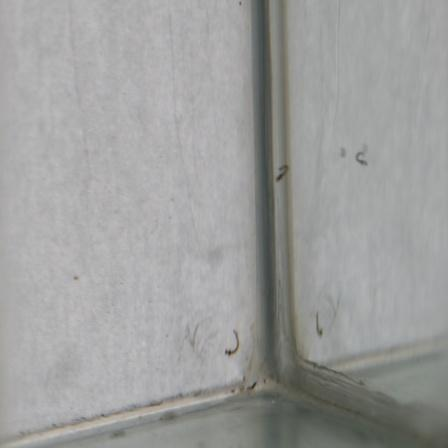Jentik-Nyamuk: (220, 327, 242, 360), (273, 162, 292, 183)
